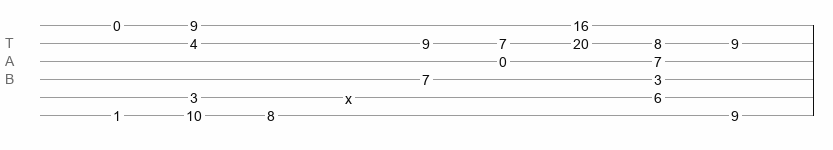0: (113, 18, 121, 28), (499, 54, 507, 64)
1: (113, 108, 121, 118)
10: (186, 108, 202, 118)
16: (573, 18, 589, 28)
20: (573, 36, 589, 46)
3: (190, 90, 198, 100), (654, 72, 662, 82)
4: (190, 36, 198, 46)
6: (654, 90, 662, 100)
7: (422, 72, 430, 82), (499, 36, 507, 46), (654, 54, 662, 64)
8: (267, 108, 275, 118), (654, 36, 662, 46)
9: (190, 18, 198, 28), (422, 36, 430, 46), (731, 36, 739, 46), (731, 108, 739, 118)
x: (345, 91, 352, 99)
